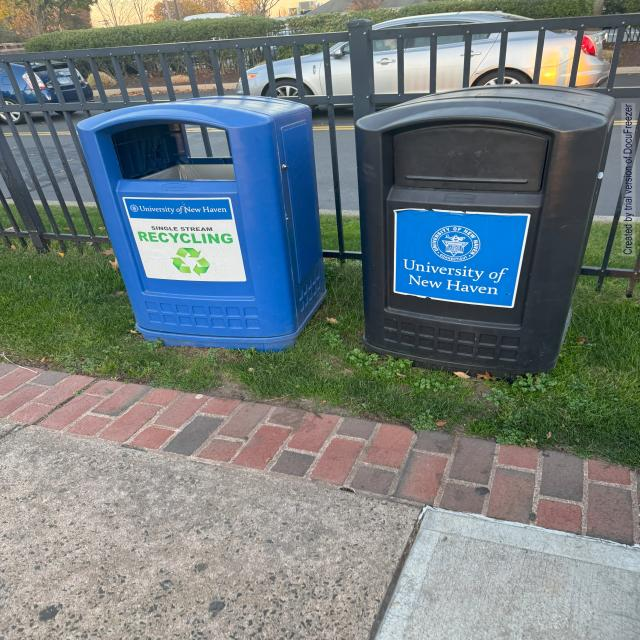Trash bin: (350, 81, 640, 387), (60, 83, 340, 363)
